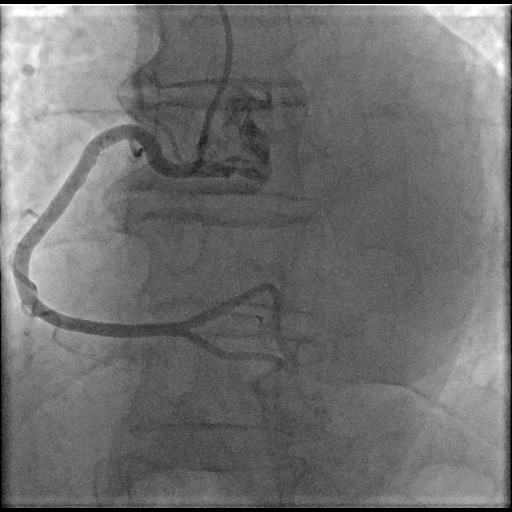RCA: (14, 125, 284, 356)
catherter: (195, 5, 233, 160)
